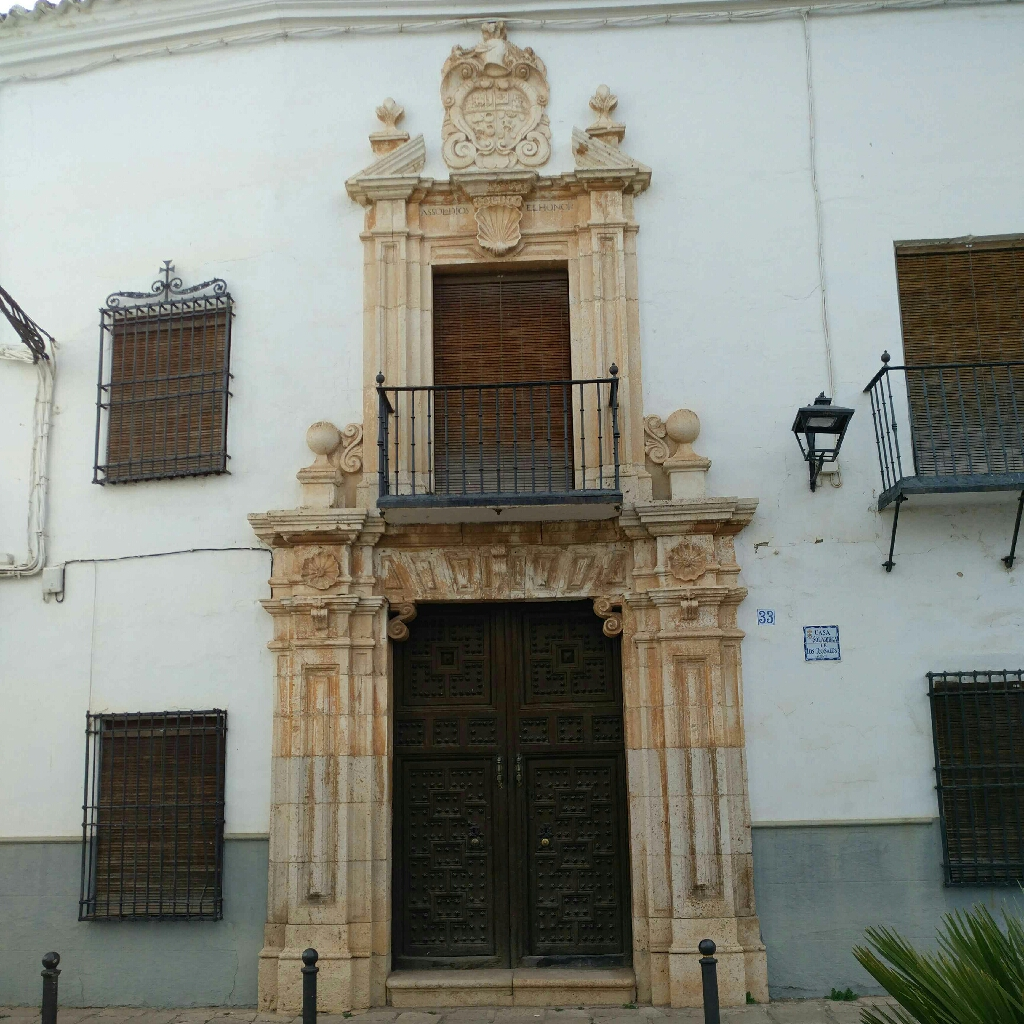fronton-partido: (338, 129, 655, 189)
vano-adintelado: (354, 538, 652, 996), (403, 218, 600, 501)
